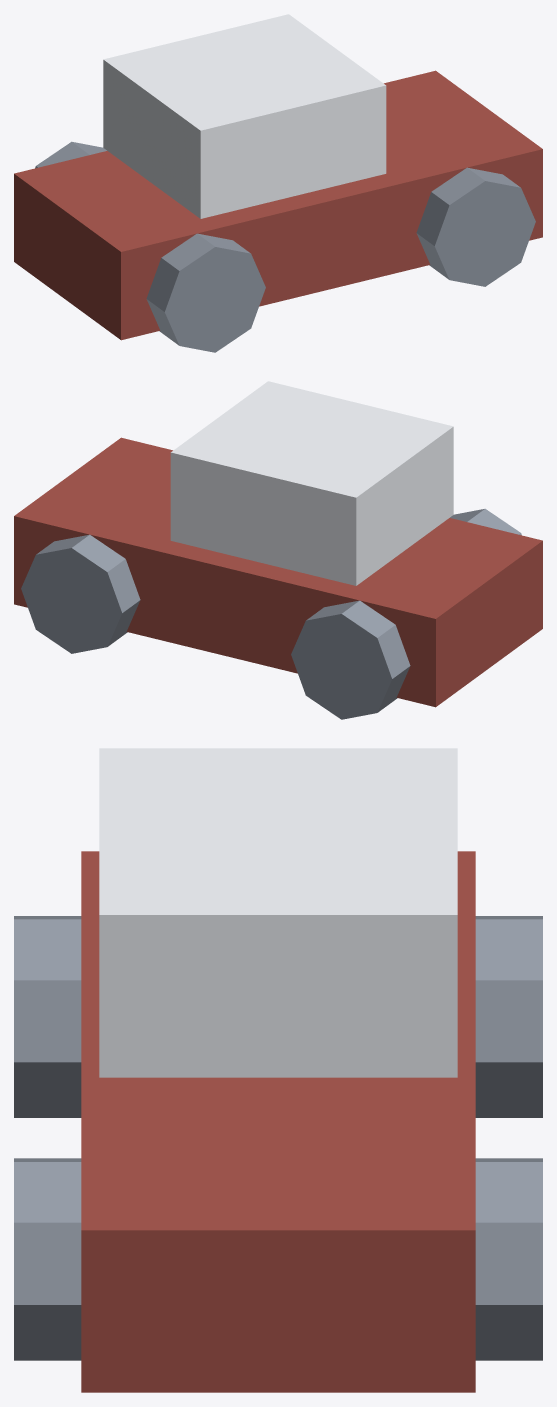
Rendered from matchbox_car.fbx.
3 views of the same model, one above another, from view 1: azimuth 30°, elevation 25°; view 2: azimuth 150°, elevation 25°; view 3: azimuth 270°, elevation 25° (orthographic). The views are drawn at different scales.
Visible parts, largest first — view 1: matchbox_car; view 2: matchbox_car; view 3: matchbox_car.
Part boxes in pixels (x1=…): matchbox_car: x1=14, y1=14, x2=542, y2=352; matchbox_car: x1=14, y1=381, x2=542, y2=719; matchbox_car: x1=14, y1=748, x2=542, y2=1392.
Bounding box in the file's own units: 140 × 64.4 × 82.6.
